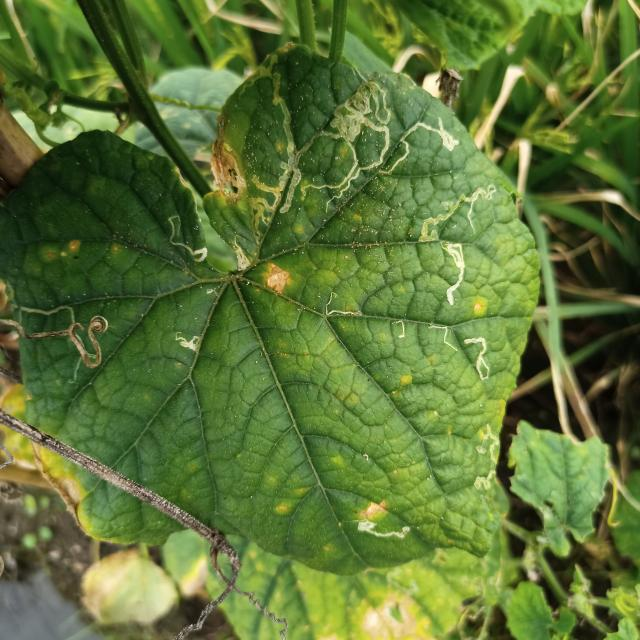disease_cucumber: (36, 240, 84, 265), (264, 263, 291, 299), (363, 500, 389, 522), (471, 301, 487, 317)
